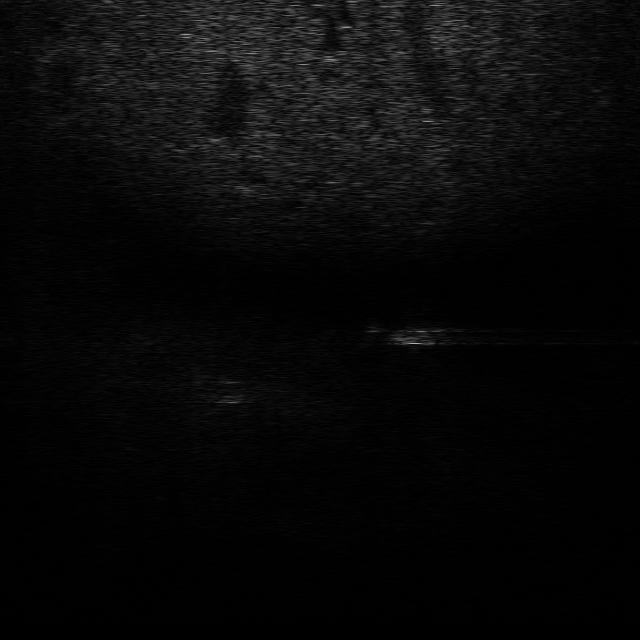ball: (212, 378, 252, 405)
human body: (352, 312, 462, 352)
